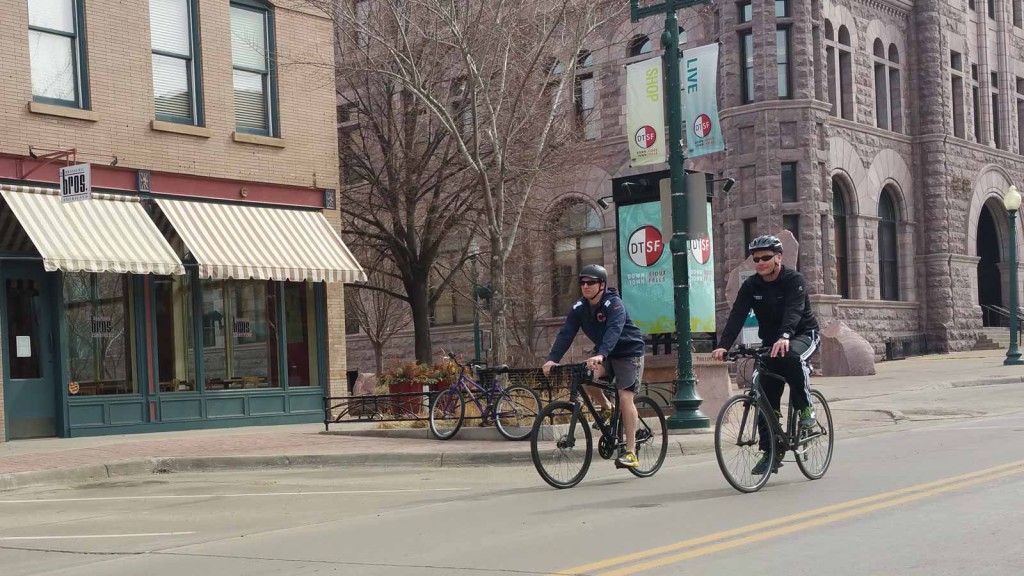with_helmet: (568, 261, 610, 284), (747, 236, 786, 256)
